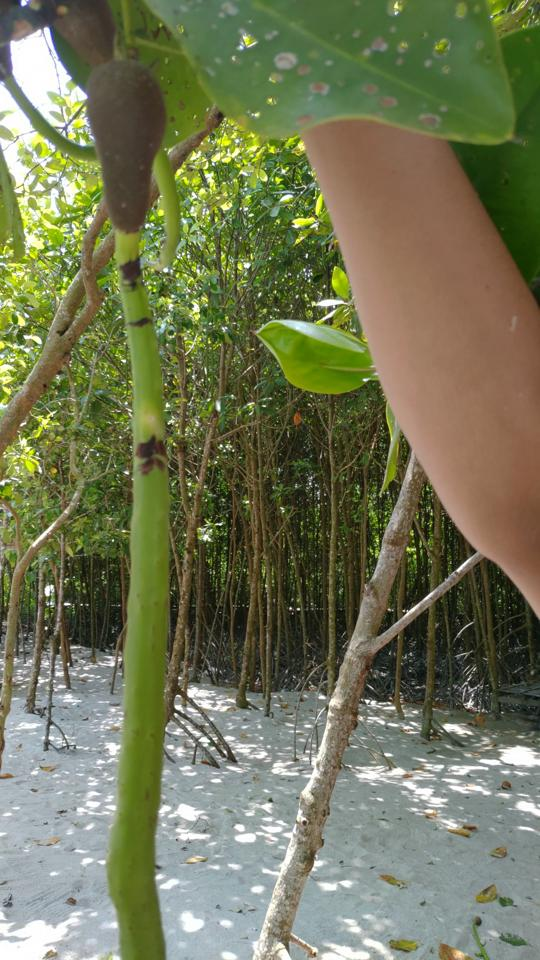setengah matang: (75, 48, 189, 959)
